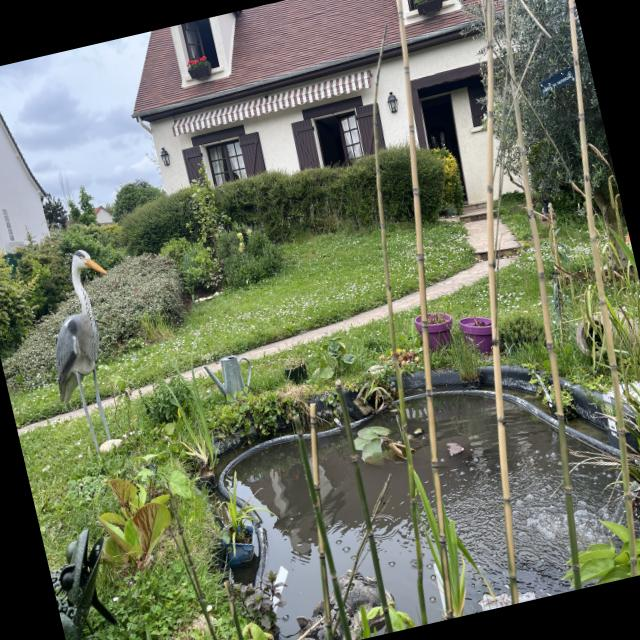Heron: (13, 232, 158, 490)
